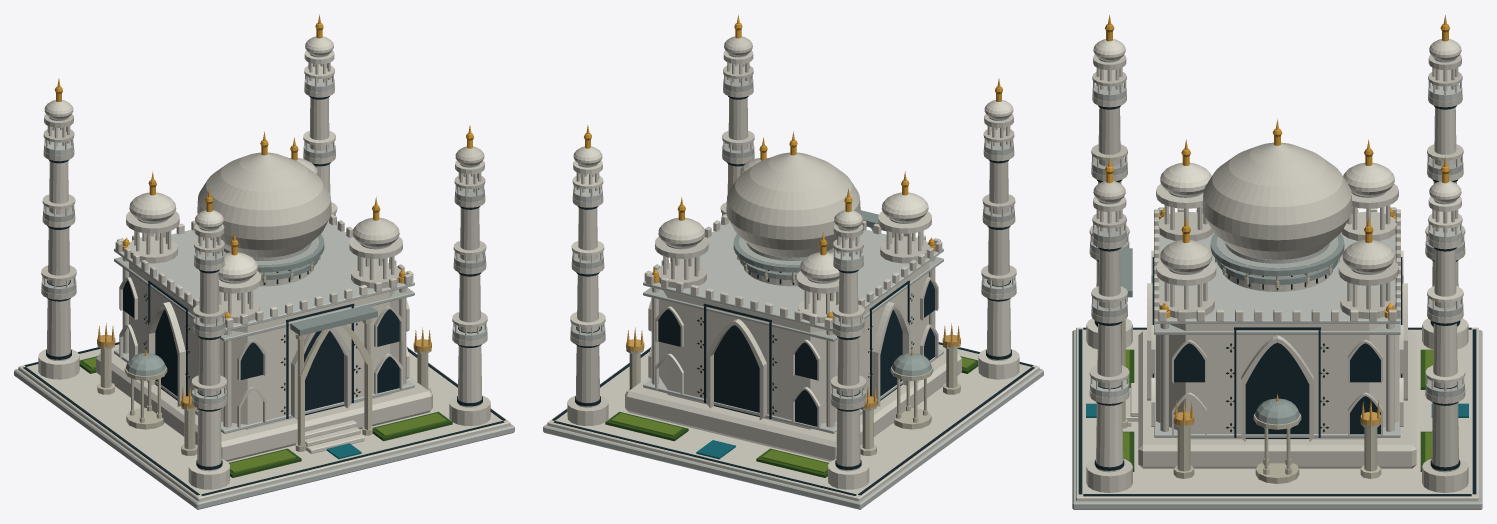
3 views of the same model, side by side, from view 1: azimuth 30°, elevation 25°; view 2: azimuth 150°, elevation 25°; view 3: azimuth 270°, elevation 25° (orthographic). The views are drawn at different scales.
Parts seen in each view (by area): view 1: fort_L5_0, fort_L5_1; view 2: fort_L5_0, fort_L5_1; view 3: fort_L5_0, fort_L5_1.
Part boxes in pixels (x1=…): fort_L5_0: x1=14, y1=23, x2=514, y2=509; fort_L5_1: x1=56, y1=14, x2=472, y2=410; fort_L5_0: x1=543, y1=23, x2=1043, y2=509; fort_L5_1: x1=585, y1=14, x2=1001, y2=410; fort_L5_0: x1=1072, y1=24, x2=1482, y2=509; fort_L5_1: x1=1106, y1=15, x2=1448, y2=428.
Bounding box in the file's own units: 7.6 × 6.93 × 7.6.
